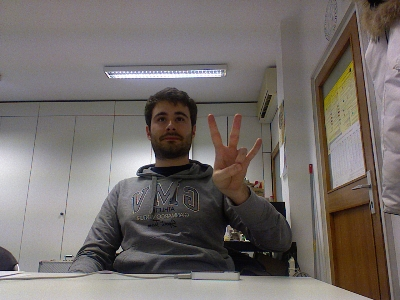观音: (205, 110, 262, 195)
